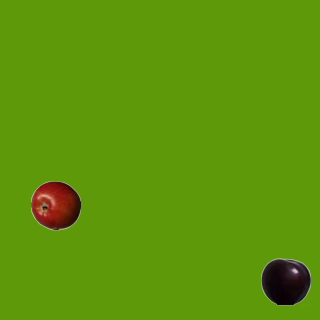Apple Braeburn: (30, 180, 80, 230)
Cherry Wax Black: (260, 256, 310, 306)
